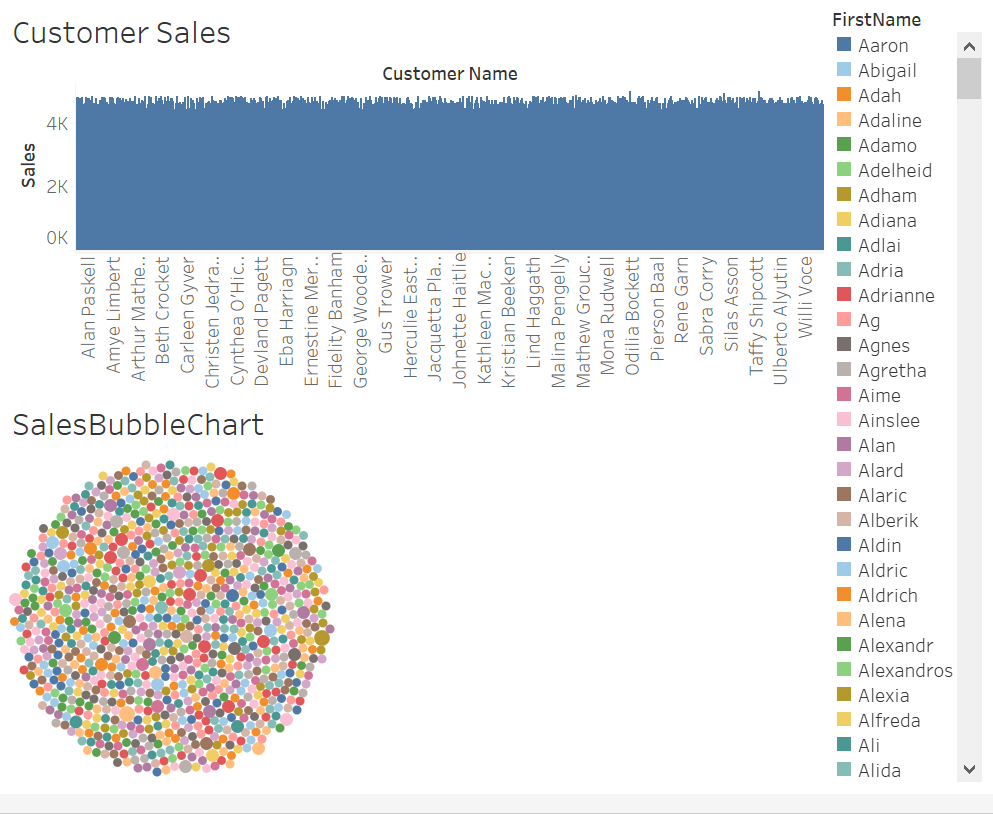

The page's visual inventory and layout, read from the dashboard file:
{"tool":"tableau","page":{"name":"Dashboard 1","canvas":[1000,800],"ordinal":0},"visuals":[{"type":"worksheet","title":"CustomerSales","mark":"Automatic","rows":["Sales"],"cols":["Customer Name"],"box":[8,8,824,392]},{"type":"legend","title":"SalesBubbleChart","param":"[federated.12jwssw100sdo112tmhgk09megsg].[none:Customer Name - Split 1:nk]","box":[832,8,160,784]},{"type":"worksheet","title":"SalesBubbleChart","mark":"Circle","box":[8,400,824,392]}]}

Visuals, with their boxes in screenshot pixels (x1, y1, x2, y2), scaled from the page's 1000x800 canvas onto the 993x814 screenshot:
"CustomerSales" worksheet: <region>8, 8, 826, 407</region>
"SalesBubbleChart" legend: <region>826, 8, 985, 806</region>
"SalesBubbleChart" worksheet (Circle marks): <region>8, 407, 826, 806</region>
